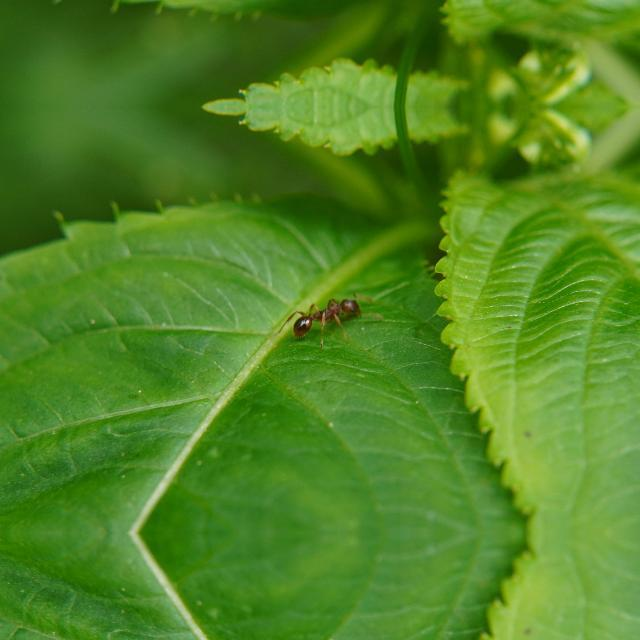Myrmica: (278, 288, 374, 346)
